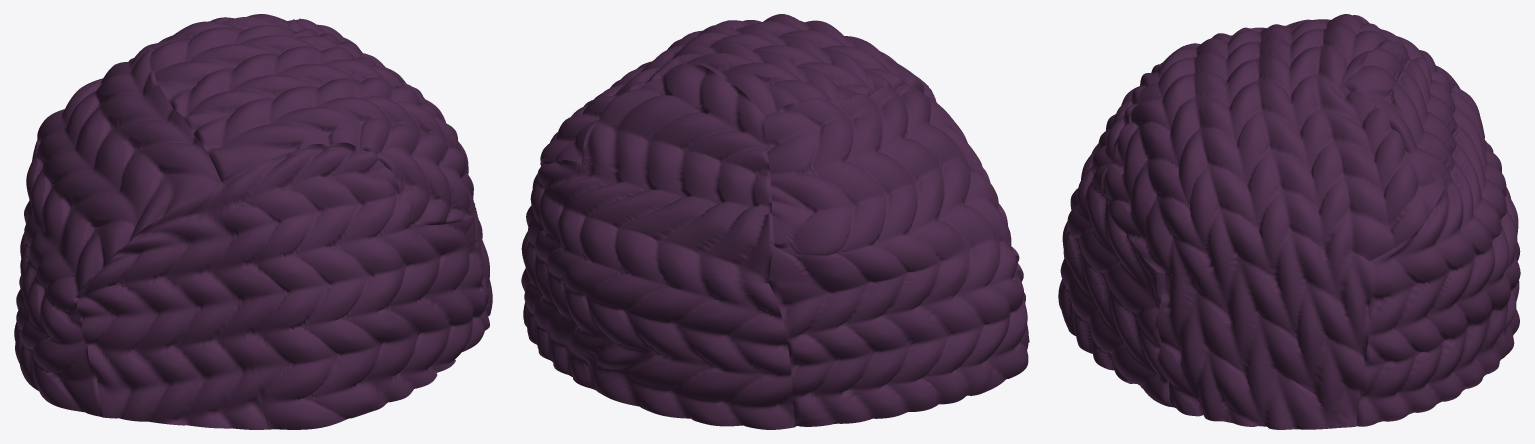
File: roca 2.fbx
The picture shows the model from 3 angles, left to right: view 1: azimuth 30°, elevation 25°; view 2: azimuth 150°, elevation 25°; view 3: azimuth 270°, elevation 25°; orthographic projection.
Parts seen in each view (by area): view 1: stone_small_2__1_; view 2: stone_small_2__1_; view 3: stone_small_2__1_.
Part boxes in pixels (x1,y1,x2,y2): stone_small_2__1_: (14,14,492,429); stone_small_2__1_: (521,14,1029,429); stone_small_2__1_: (1058,14,1520,429).
Bounding box in the file's own units: 131 × 80.45 × 117.
